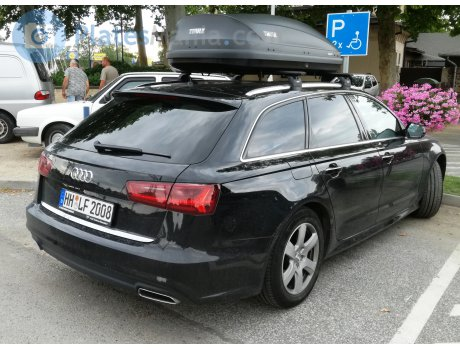License Plates: (65, 189, 108, 215)
